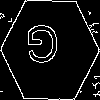G: (25, 25, 60, 72)
